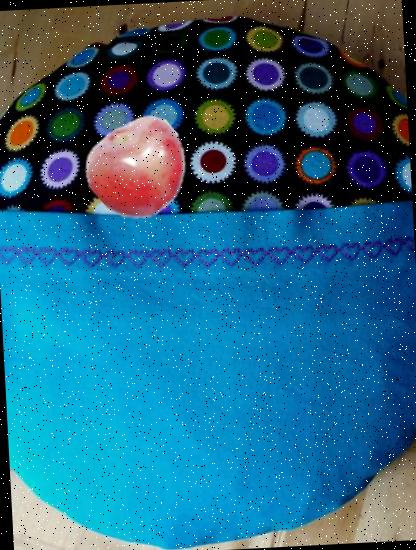Cherry: (87, 114, 194, 221)
